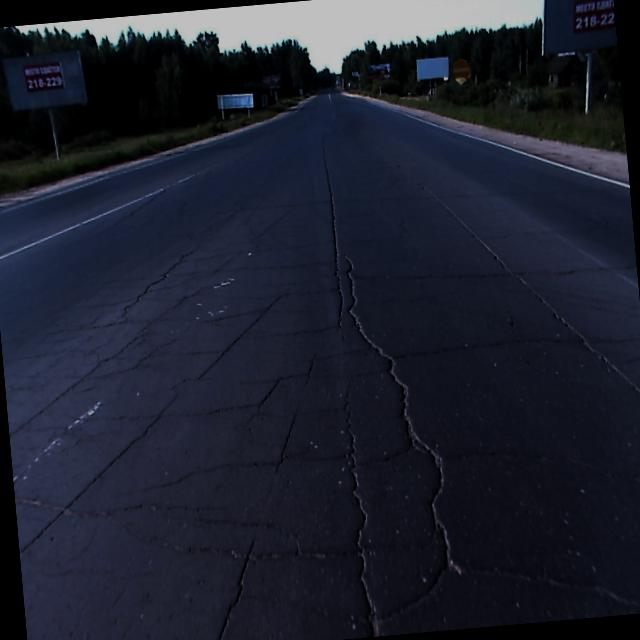road: (0, 84, 640, 640)
